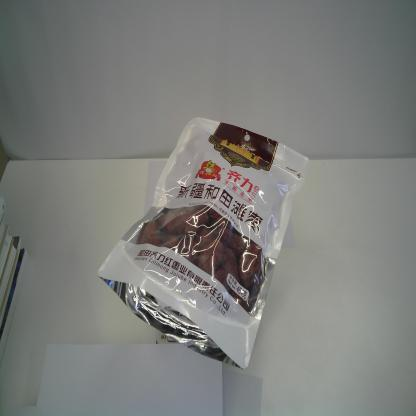Dried Food: (96, 117, 310, 370)
